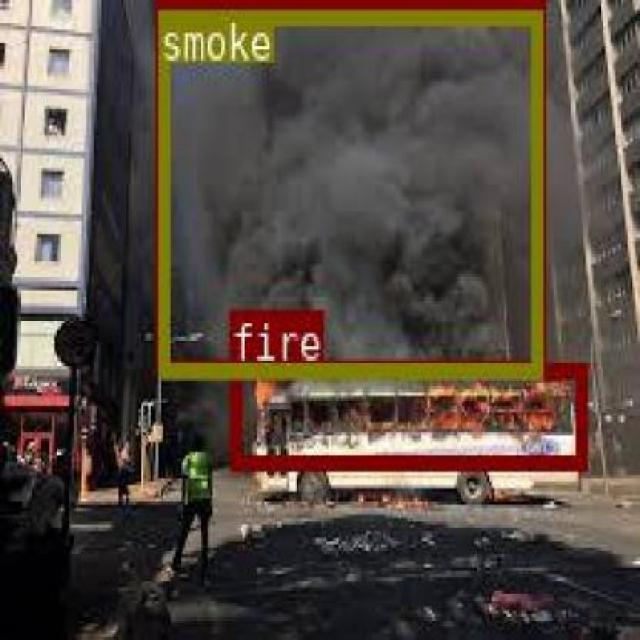CIV_Plane: (155, 0, 539, 372), (228, 361, 586, 467)
Fire: (155, 0, 539, 372), (228, 361, 586, 467)
Smoke: (156, 0, 541, 309)
